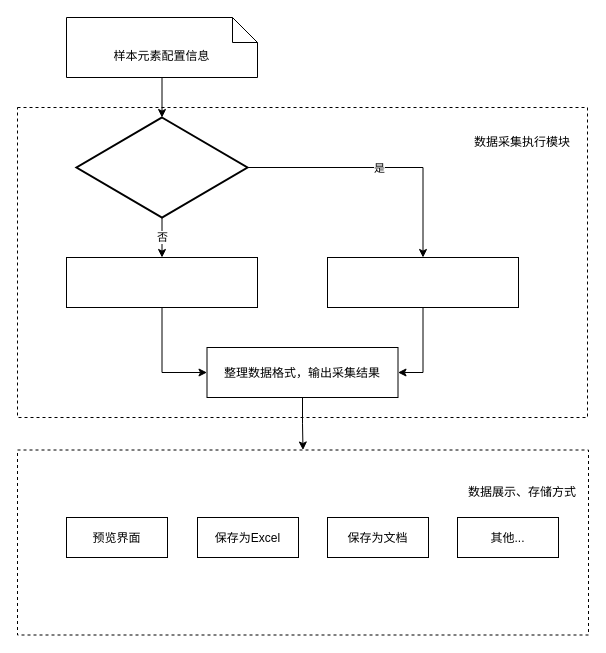
Image size: 606x653. Some labels were removed from this diagram. The shapes that lost their labels are listed below. From the top down, each one's centre as x and y in pixels, then its label:
At point (161, 167): "是否表格元素".
At point (162, 282): "调用插件获取相似元素接口".
At point (422, 282): "调用插件获取表格元素接口".
